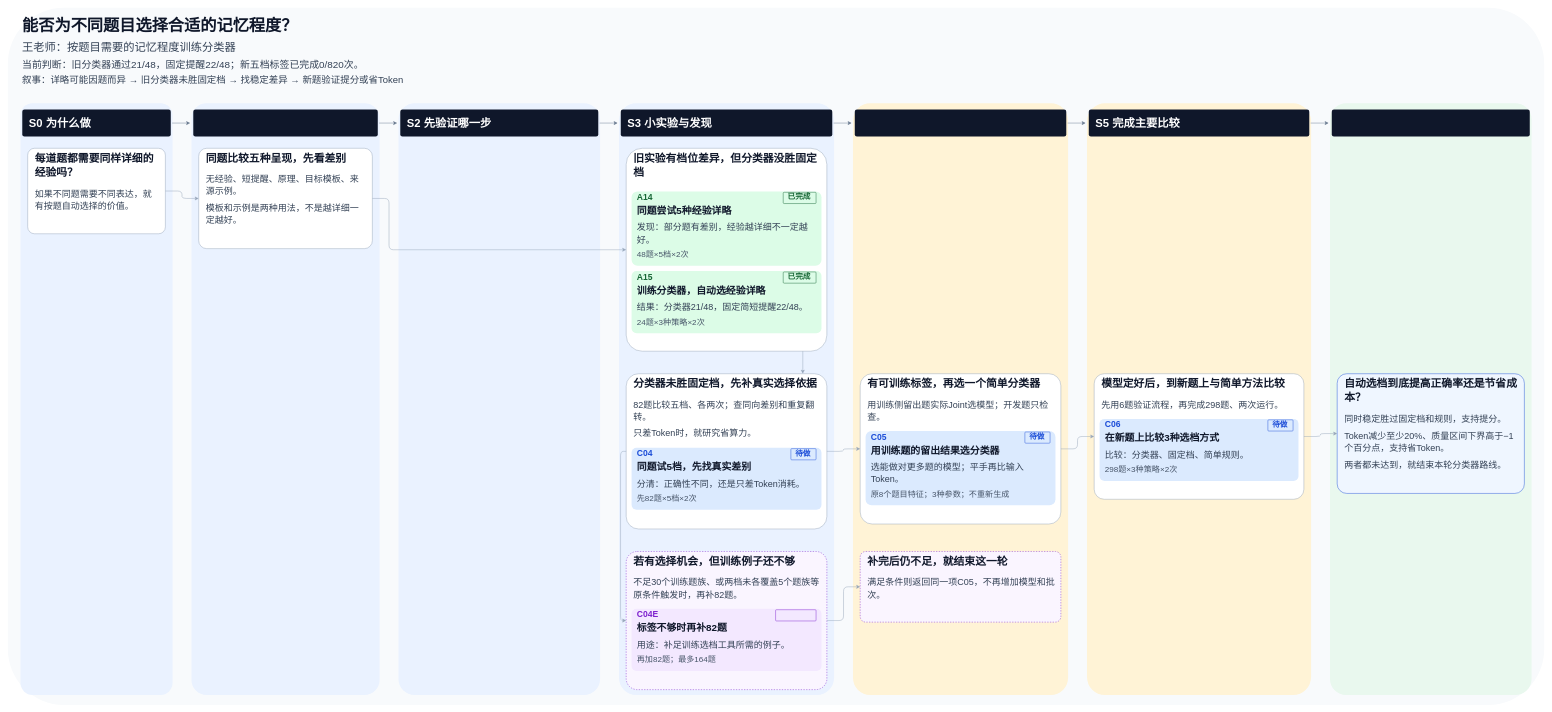
Some shapes in this 1552 by 712 pixel diagram are drawn without their labels. Each missing label, with the centre of its shape:
S1 怎样比较: point 285,122
S4 继续学习或建方法: point 960,122
S6 结论与下一步: point 1431,122
条件触发: point 795,615
